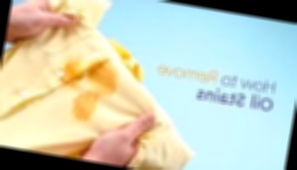oil: (69, 57, 124, 124), (61, 60, 88, 88)
